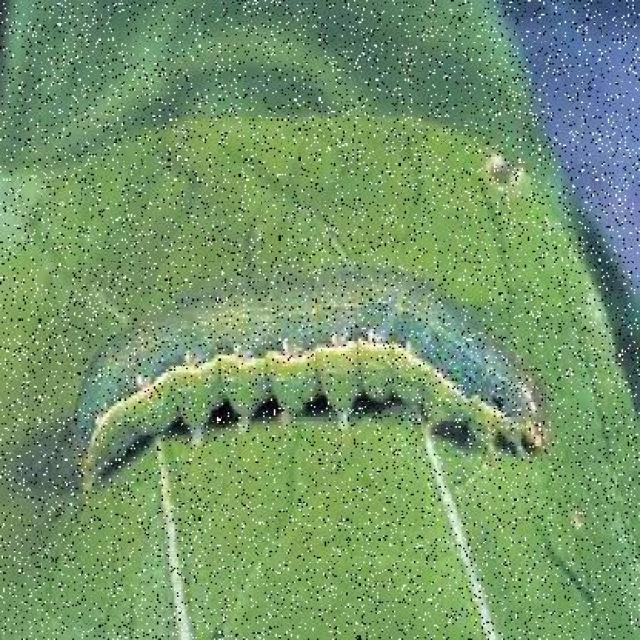Plaga: (40, 235, 565, 524)
